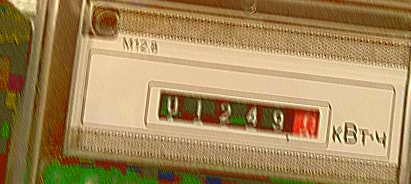0: (162, 94, 179, 115)
1: (189, 97, 204, 119)
2: (214, 101, 232, 125)
4: (243, 104, 258, 126)
7: (297, 108, 312, 129)
9: (268, 109, 284, 132)
screen: (139, 78, 334, 151)
